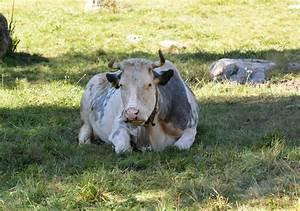cow: (77, 48, 199, 155)
